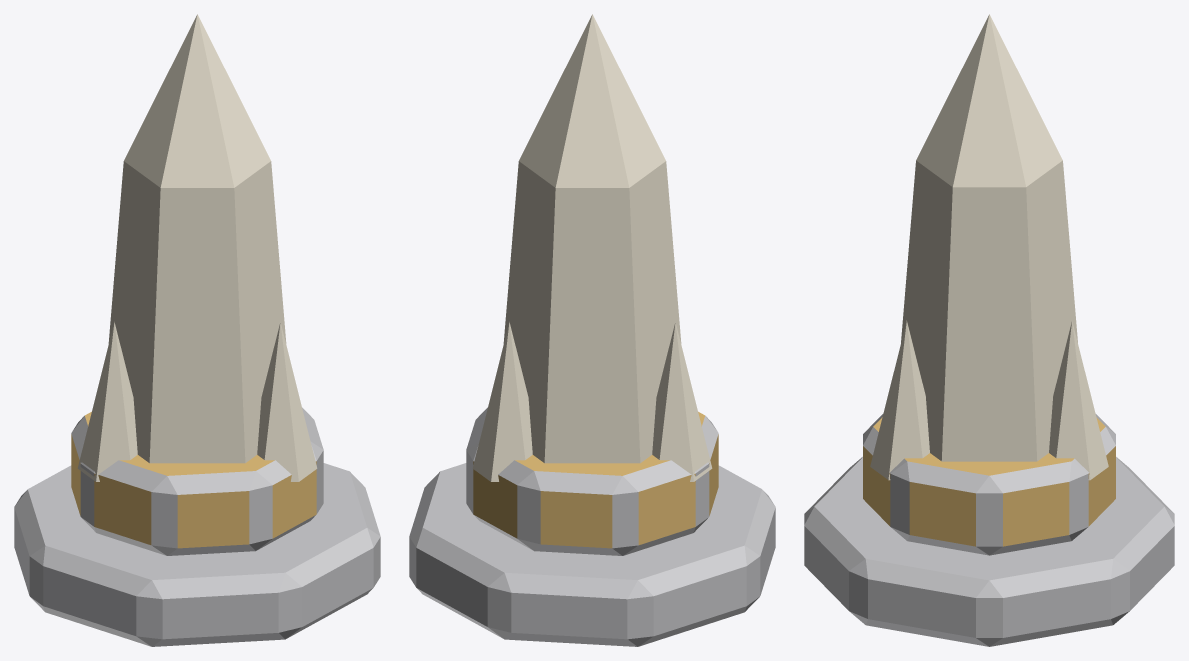
The model's file is CO_Top_Crystal.fbx.
3 renders of one model, left to right at view 1: azimuth 30°, elevation 25°; view 2: azimuth 150°, elevation 25°; view 3: azimuth 270°, elevation 25°, orthographic.
Visible parts, largest first — view 1: CO_Top_Crystal; view 2: CO_Top_Crystal; view 3: CO_Top_Crystal.
Part boxes in pixels (left/top/right/bottom): CO_Top_Crystal: left=14, top=14, right=380, bottom=646; CO_Top_Crystal: left=409, top=14, right=775, bottom=646; CO_Top_Crystal: left=804, top=14, right=1174, bottom=646.
Size of the model in its own units: 0.5047 by 0.84 by 0.5047.
